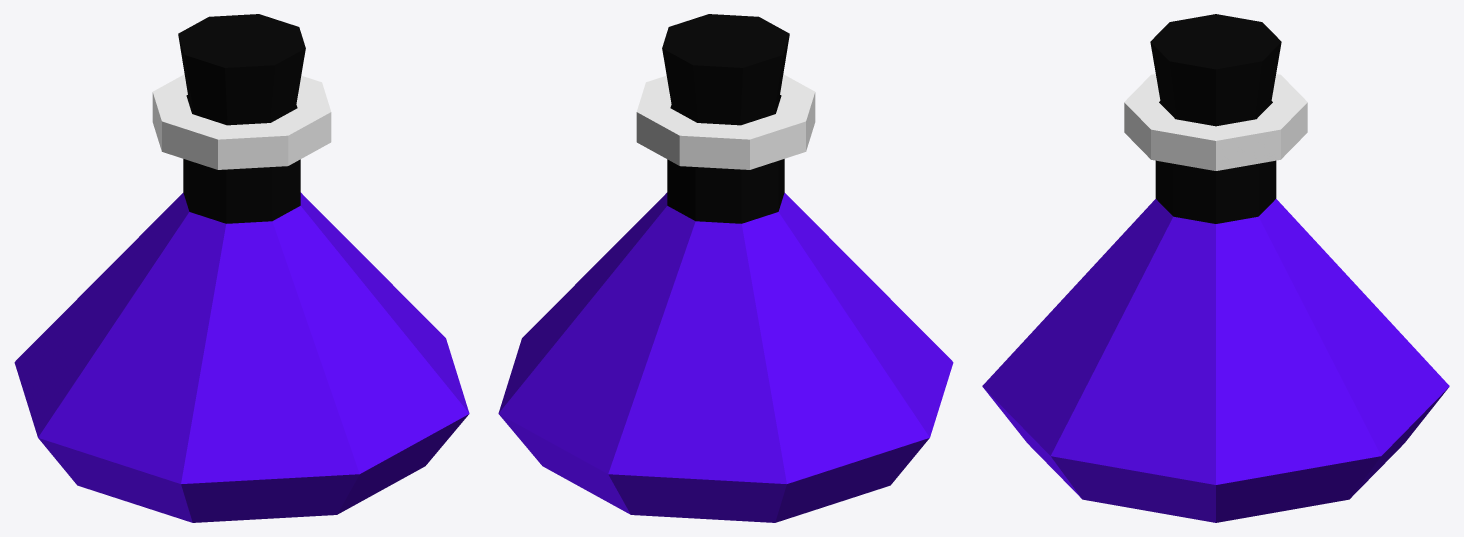
File: magic_potion.fbx
The picture shows the model from 3 angles, left to right: view 1: azimuth 30°, elevation 25°; view 2: azimuth 150°, elevation 25°; view 3: azimuth 270°, elevation 25°; orthographic projection.
Visible parts, largest first — view 1: Circle; view 2: Circle; view 3: Circle.
Boxes of the visible parts, box(x1,y1,x2,y2) form: Circle: box(14, 14, 469, 522); Circle: box(498, 14, 953, 522); Circle: box(982, 14, 1449, 522).
Size of the model in its own units: 248 by 235 by 248.
